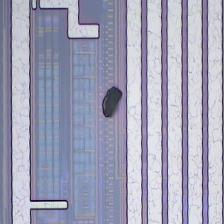PARTICLE: (100, 87, 125, 119)
